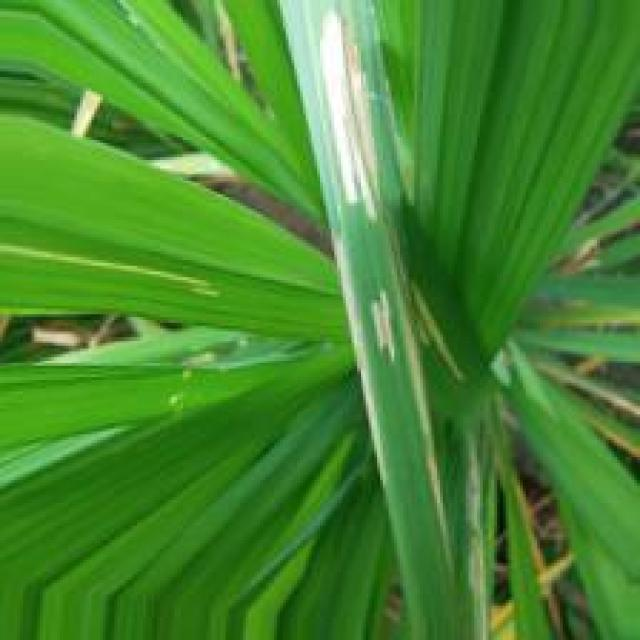Rice_Hispa: (398, 299, 455, 575), (329, 235, 385, 483), (320, 7, 377, 222), (371, 298, 398, 363)
